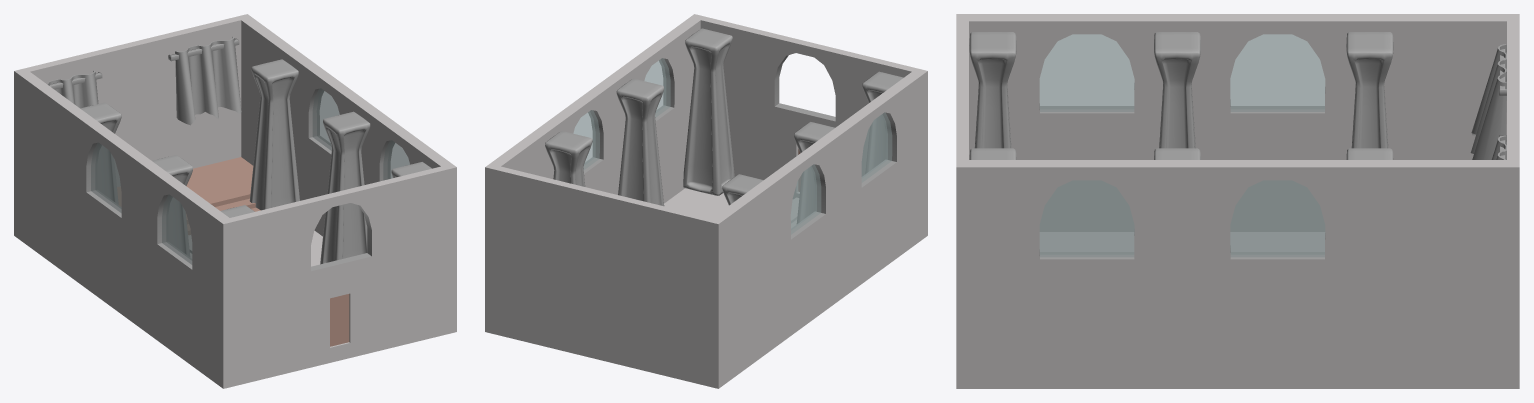
File: Church_2.fbx
3 renders of one model, left to right at view 1: azimuth 30°, elevation 25°; view 2: azimuth 150°, elevation 25°; view 3: azimuth 270°, elevation 25°, orthographic. The views are drawn at different scales.
Parts seen in each view (by area): view 1: pCube12, pCube17, pCube10, extrudedSurface1, windowLeft, pCube2, WindowRight, pCube11, curtain, pCube20; view 2: pCube12, pCube8, pCube10, windowLeft, pCube17, WindowRight, pCube9, pCube11; view 3: pCube12, windowLeft, WindowRight, pCube17, pCube9, pCube11, curtain, pCube8, pCube10.
Boxes of the visible parts, x1,y1,x2,y2 form: pCube12: (14, 14, 456, 388); pCube17: (80, 59, 299, 210); pCube10: (320, 111, 370, 264); extrudedSurface1: (175, 36, 241, 125); windowLeft: (91, 143, 192, 264); pCube2: (117, 157, 260, 234); WindowRight: (313, 88, 409, 179); pCube11: (152, 155, 192, 256); curtain: (47, 70, 98, 108); pCube20: (330, 294, 349, 346); pCube12: (485, 14, 927, 388); pCube8: (683, 28, 734, 195); pCube10: (616, 78, 664, 206); windowLeft: (790, 112, 891, 234); pCube17: (545, 131, 763, 205); WindowRight: (573, 58, 670, 169); pCube9: (862, 71, 903, 173); pCube11: (794, 122, 834, 223); pCube12: (956, 14, 1519, 388); windowLeft: (1039, 34, 1325, 111); WindowRight: (1039, 180, 1325, 256); pCube17: (1346, 32, 1393, 159); pCube9: (969, 32, 1016, 148); pCube11: (1154, 32, 1200, 148); curtain: (1470, 44, 1506, 159); pCube8: (969, 148, 1016, 159); pCube10: (1154, 148, 1200, 159).
Bounding box in the file's own units: 98.49 × 66.41 × 153.
